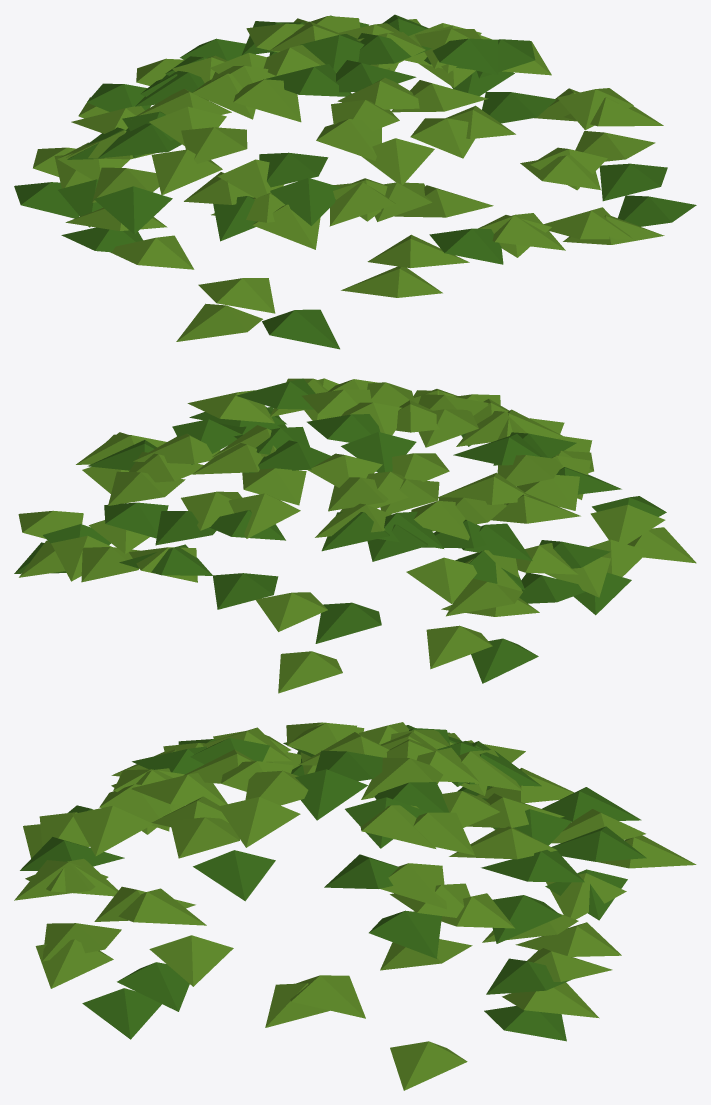
File: bed_shrub_0.obj
3 renders of one model, top to bottom at view 1: azimuth 30°, elevation 25°; view 2: azimuth 150°, elevation 25°; view 3: azimuth 270°, elevation 25°, orthographic. The views are drawn at different scales.
Visible parts, largest first — view 1: bed_shrub_0; view 2: bed_shrub_0; view 3: bed_shrub_0.
Boxes of the visible parts, x1,y1,x2,y2 form: bed_shrub_0: (14, 14, 696, 349); bed_shrub_0: (14, 378, 696, 693); bed_shrub_0: (14, 722, 696, 1090).
Size of the model in its own units: 3.41 by 0.841 by 3.22.
